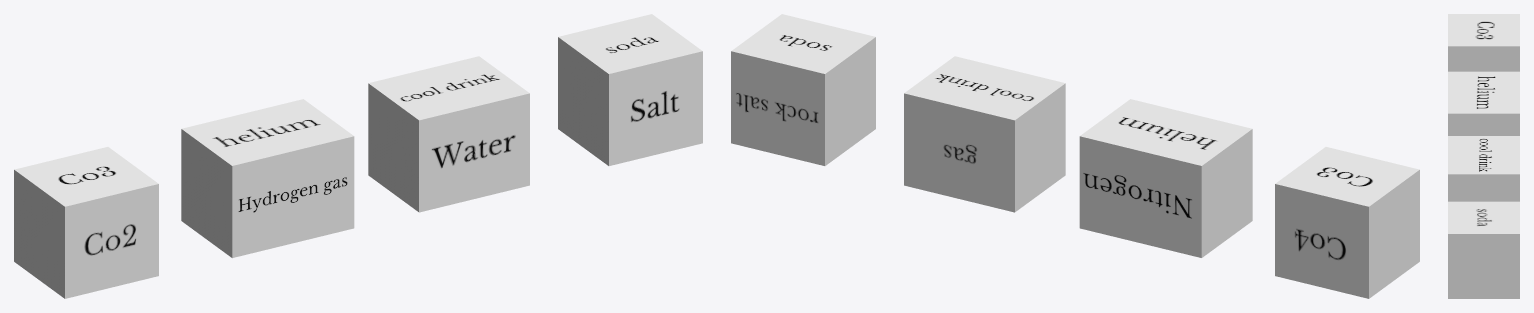
The picture shows the model from 3 angles, left to right: view 1: azimuth 30°, elevation 25°; view 2: azimuth 150°, elevation 25°; view 3: azimuth 270°, elevation 25°; orthographic projection. The views are drawn at different scales.
Visible parts, largest first — view 1: hydrogen_gas, water, salt, Co2; view 2: hydrogen_gas, water, salt, Co2; view 3: salt, water, hydrogen_gas, Co2.
Boxes of the visible parts, left/top/right/bottom form: hydrogen_gas: left=181, top=99, right=354, bottom=257; water: left=368, top=56, right=529, bottom=212; salt: left=558, top=14, right=702, bottom=165; Co2: left=14, top=147, right=158, bottom=298; hydrogen_gas: left=1079, top=99, right=1252, bottom=257; water: left=904, top=56, right=1065, bottom=212; salt: left=731, top=14, right=875, bottom=165; Co2: left=1275, top=147, right=1419, bottom=298; salt: left=1448, top=201, right=1519, bottom=298; water: left=1448, top=136, right=1519, bottom=201; hydrogen_gas: left=1448, top=71, right=1519, bottom=135; Co2: left=1448, top=14, right=1519, bottom=71.
Bounding box in the file's own units: 496 × 68.41 × 68.41.
Materials: 1 (1 with a texture image).
